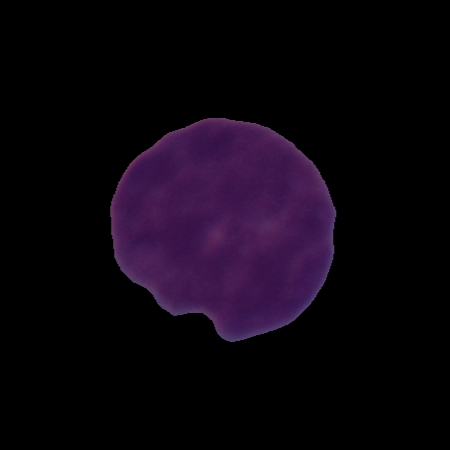ALL: (105, 112, 343, 346)
